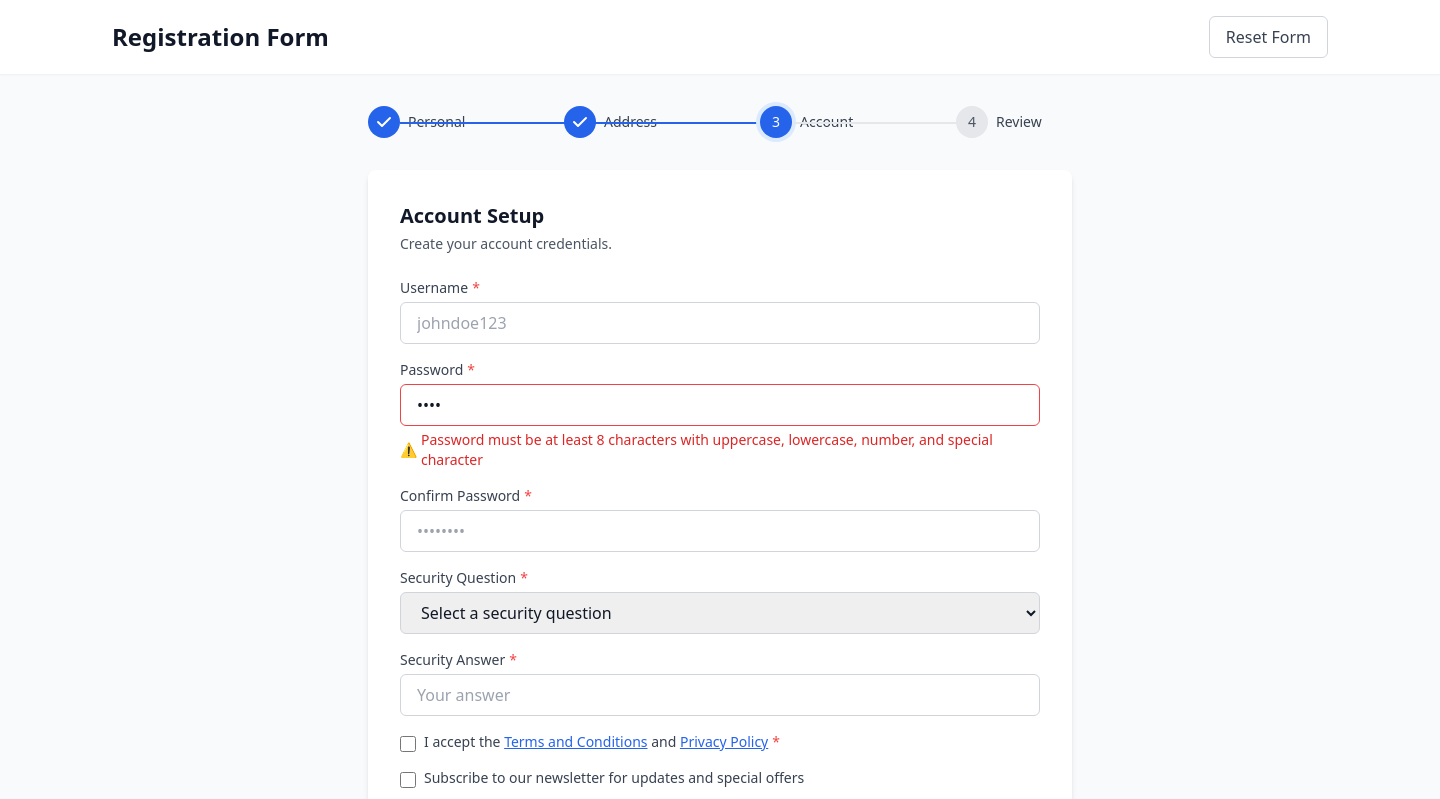
it: AccountInfo Component › validates password confirmation match
This screenshot has width=1440, height=799.
Type "StrongP@ss1" into the password field labelled "Password*" at (720, 405), box [400,384,1040,426]
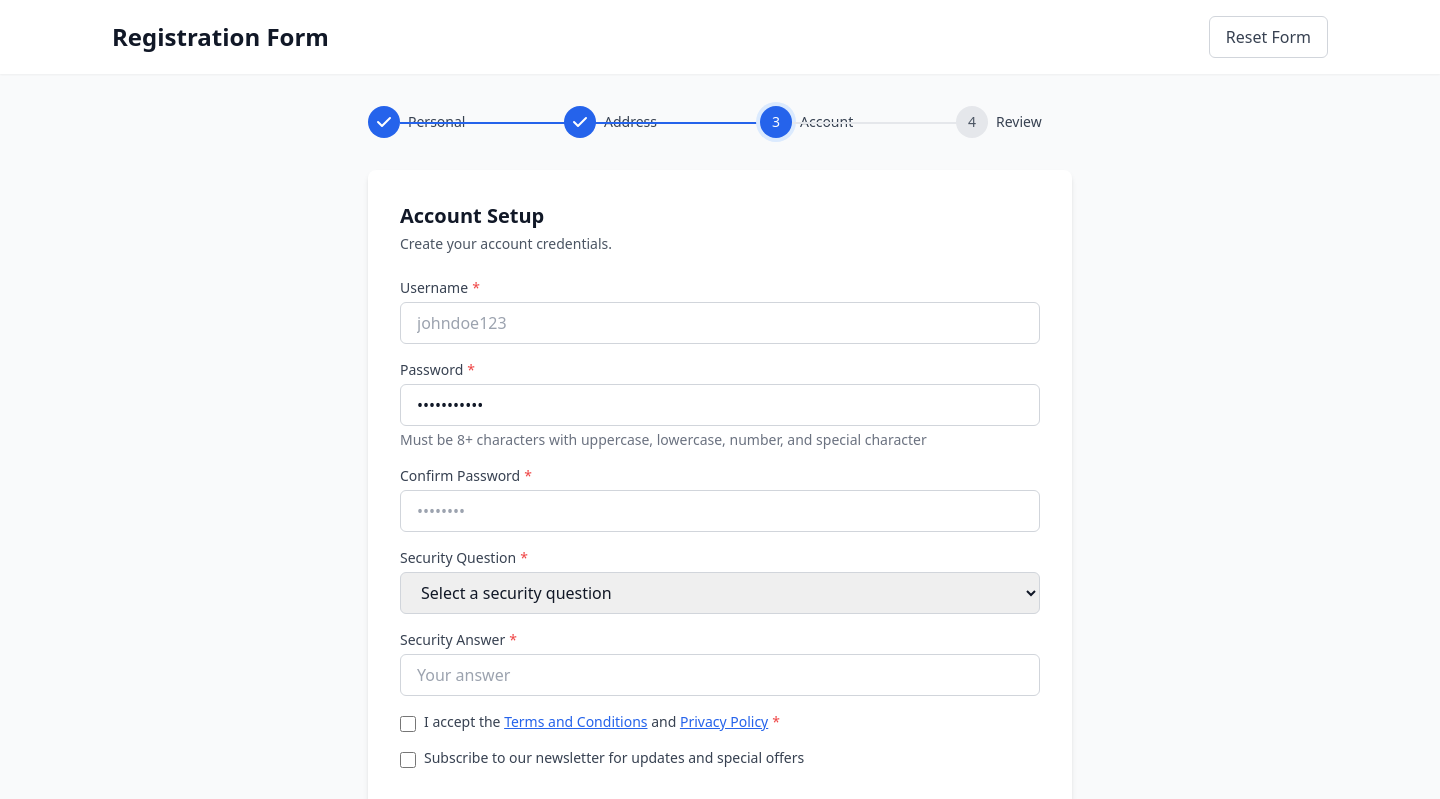
Type "DifferentP@ss1" into the password field labelled "Confirm Password*" at (720, 511), box [400,490,1040,532]
(page scrolled)
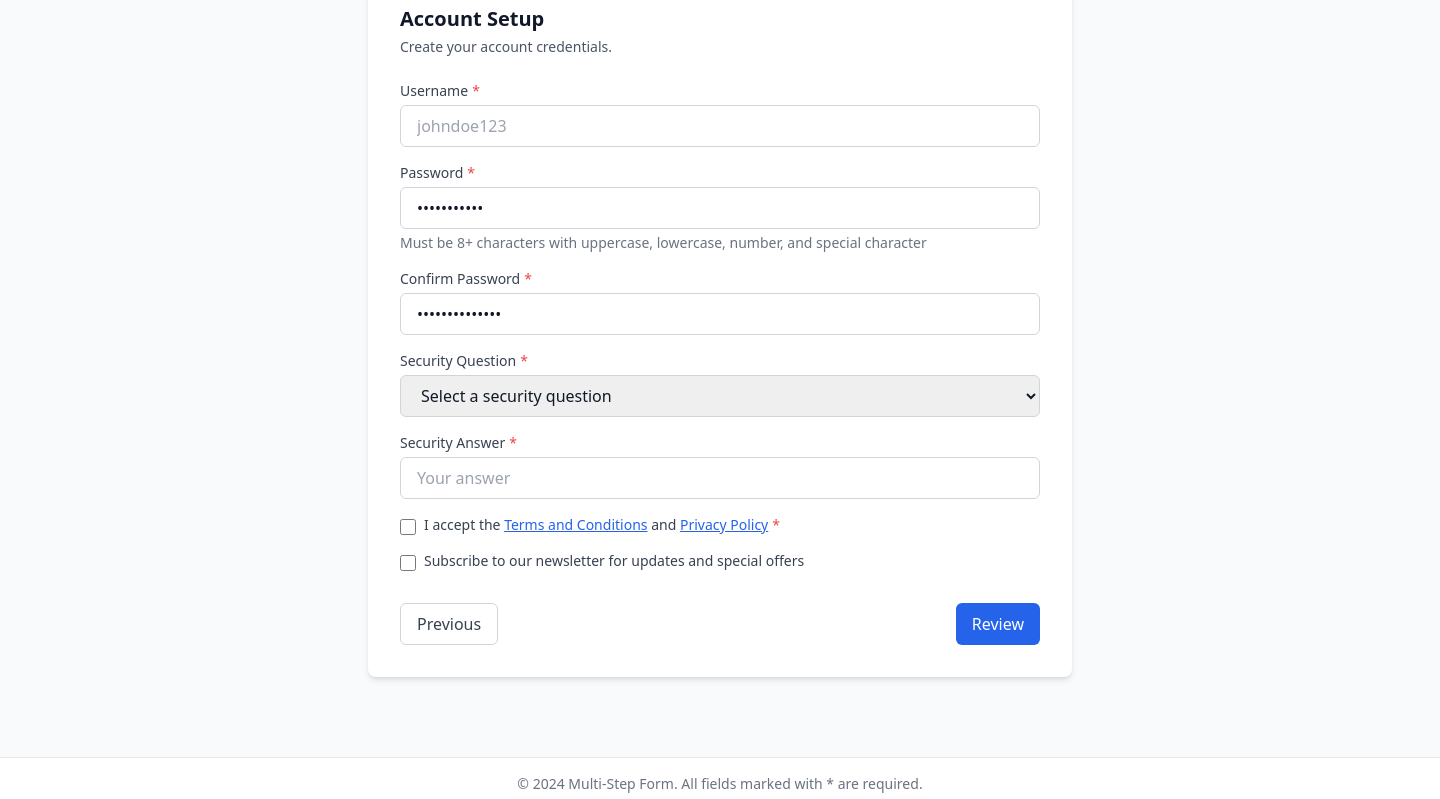
Click the button with test id "account-next-btn" at (998, 624), box [956,603,1040,645]
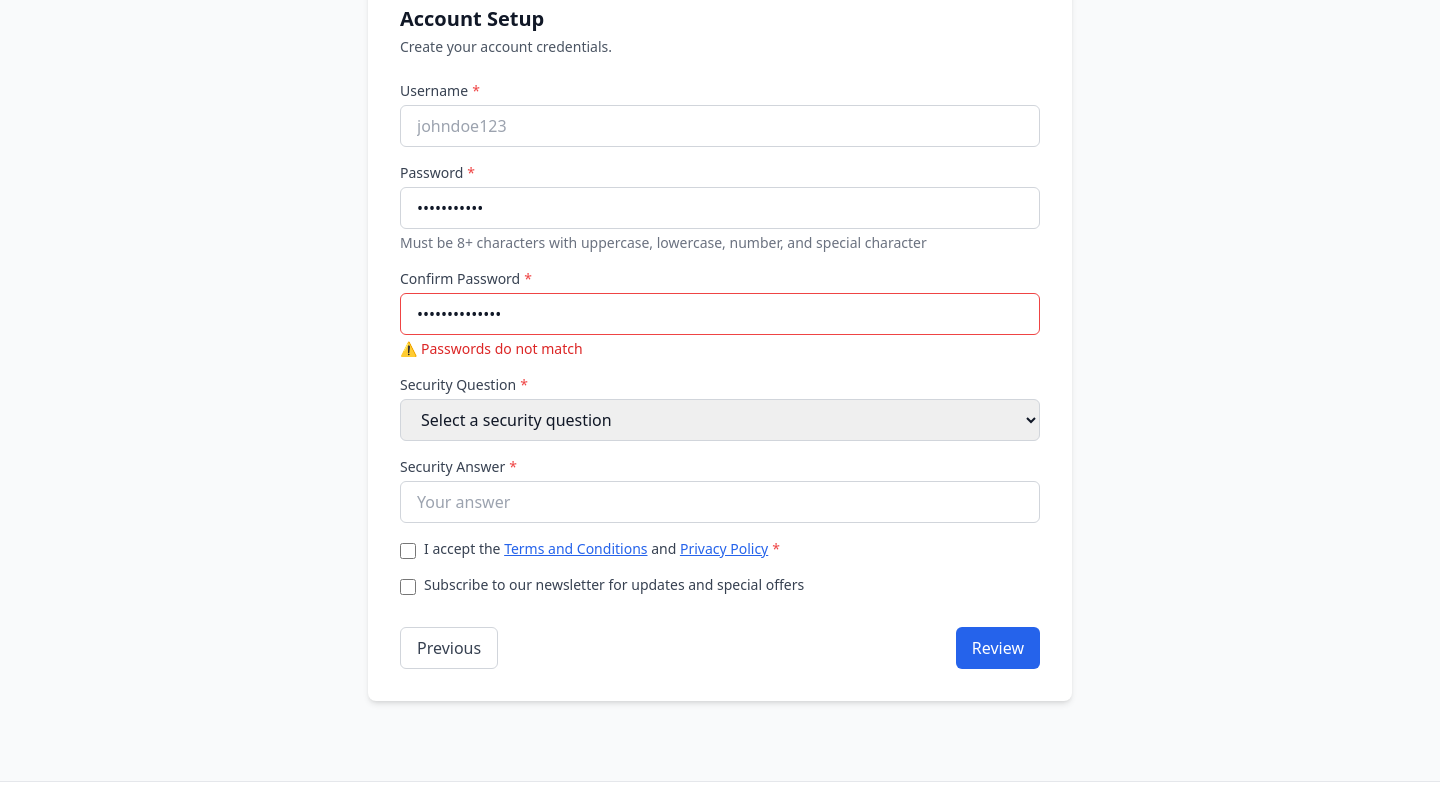
Check: the text "Passwords do not match" is shown, box [421,339,583,358]
